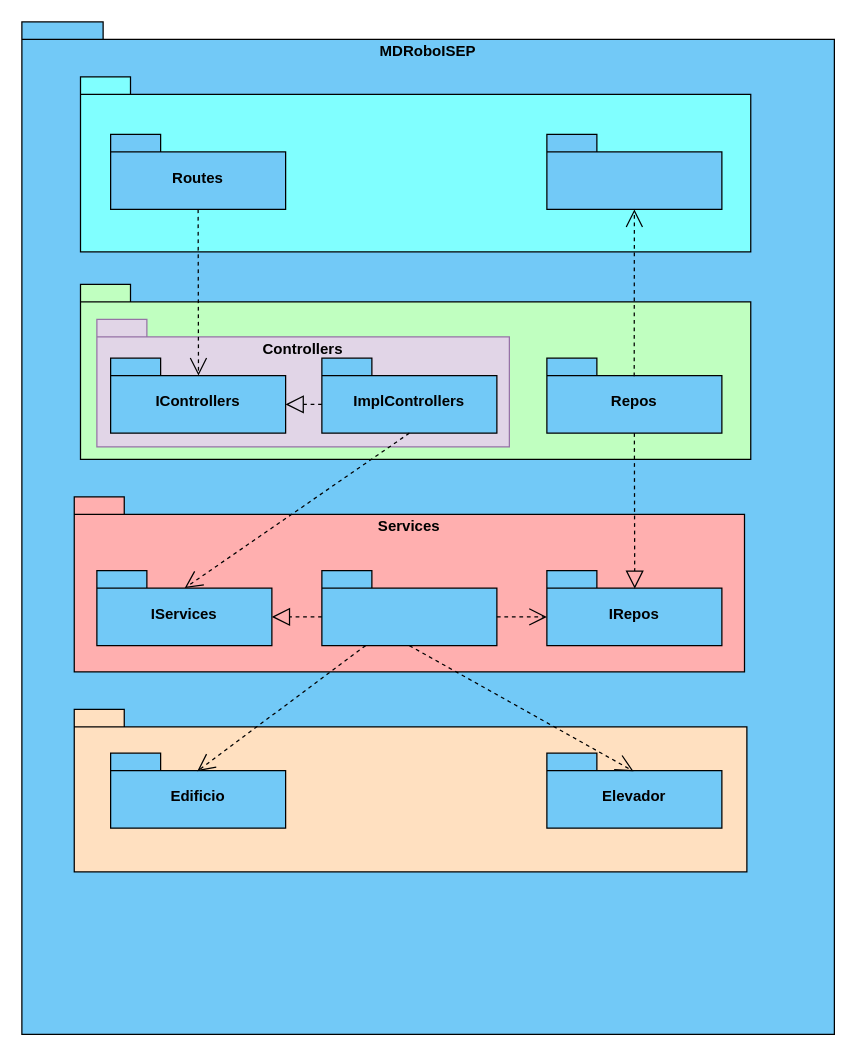
The diagram is 856 pixels wide and 1056 high, and some of its shapes have lost their labels. The shapes that lost their labels are listed below. From the top down, each one's box as (x1, y1, x2, y2) in pixels, then its label:
(79, 76, 751, 252): Infrastrecture
(546, 133, 722, 209): Persistence
(79, 283, 751, 459): Interface Adapters
(321, 569, 497, 646): ImplServices
(73, 708, 747, 872): Entities/Core/Domain
